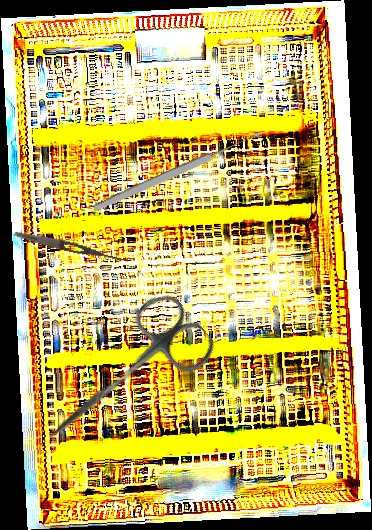Dressing Forceps: (13, 228, 130, 266)
Iris Scissors: (23, 284, 222, 473)
Surgical Spoon: (91, 129, 264, 214)
